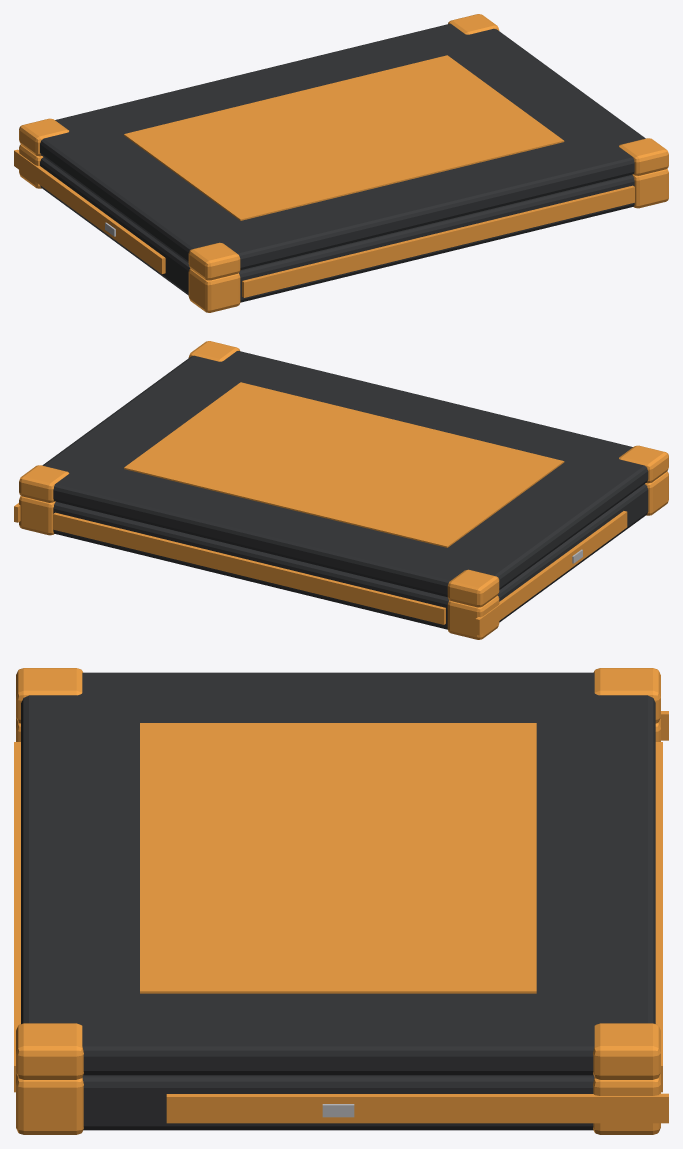
Rendered from ROOT_AE3_Laptop_Closed.fbx.
The picture shows the model from 3 angles, top to bottom: view 1: azimuth 30°, elevation 25°; view 2: azimuth 150°, elevation 25°; view 3: azimuth 270°, elevation 25°; orthographic projection. The views are drawn at different scales.
Parts seen in each view (by area): view 1: ROOT_AE3_Laptop_Closed_LOD0; view 2: ROOT_AE3_Laptop_Closed_LOD0; view 3: ROOT_AE3_Laptop_Closed_LOD0.
Boxes of the visible parts, left/top/right/bottom form: ROOT_AE3_Laptop_Closed_LOD0: left=14, top=14, right=668, bottom=312; ROOT_AE3_Laptop_Closed_LOD0: left=14, top=341, right=668, bottom=639; ROOT_AE3_Laptop_Closed_LOD0: left=14, top=668, right=668, bottom=1134.
Size of what is drawn, in the model's own units: 34.76 by 3.8 by 24.77.
